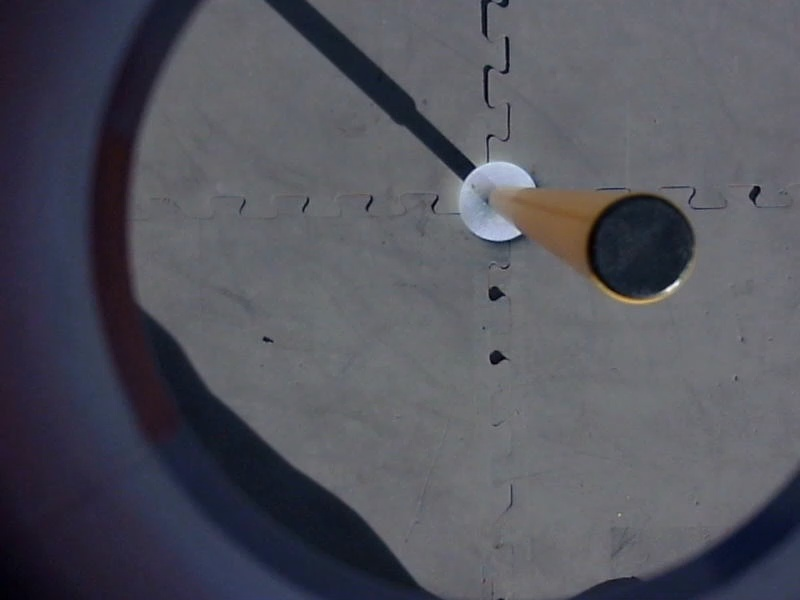tip: (573, 186, 700, 309)
